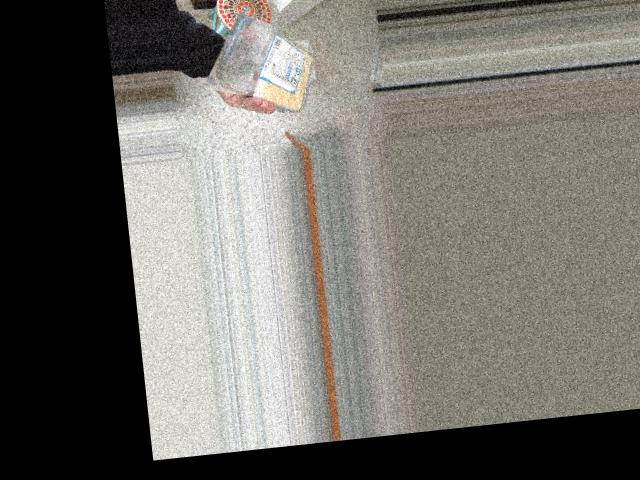cheese: (215, 4, 324, 107)
